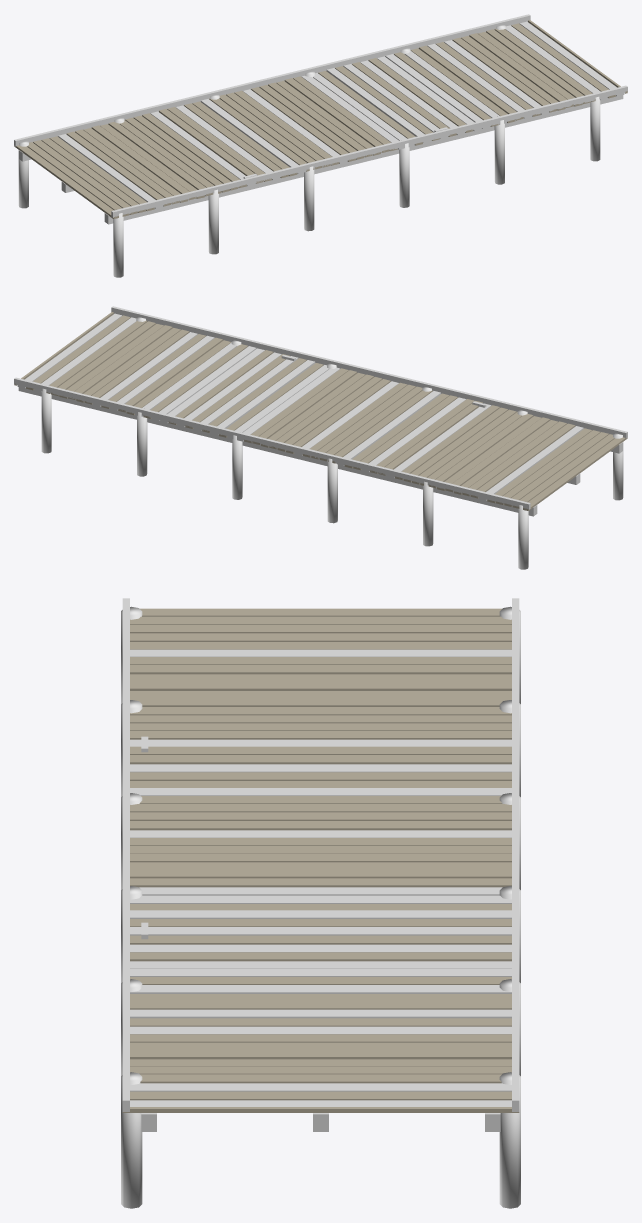
Rendered from hood_dock.glb.
3 renders of one model, top to bottom at view 1: azimuth 30°, elevation 25°; view 2: azimuth 150°, elevation 25°; view 3: azimuth 270°, elevation 25°, orthographic. The views are drawn at different scales.
Visible parts, largest first — view 1: board.150, board.151; view 2: board.150, board.151; view 3: board.150, board.151.
Part boxes in pixels (x1,y1,x2,y2): board.150: [14, 20, 627, 218]; board.151: [14, 14, 627, 277]; board.150: [14, 312, 627, 510]; board.151: [14, 306, 627, 569]; board.150: [122, 608, 519, 1112]; board.151: [121, 598, 520, 1208].
Bounding box in the file's own units: 13.5 × 1.67 × 4.54.
